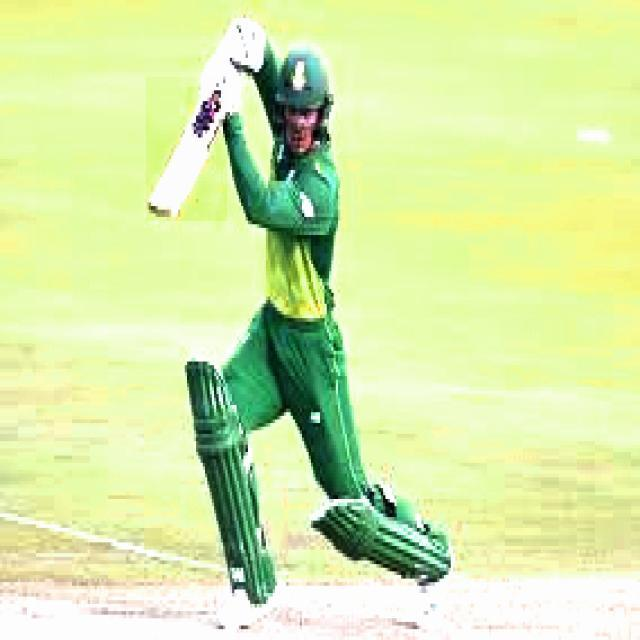bat: (147, 78, 225, 220)
toe: (146, 203, 185, 220)
